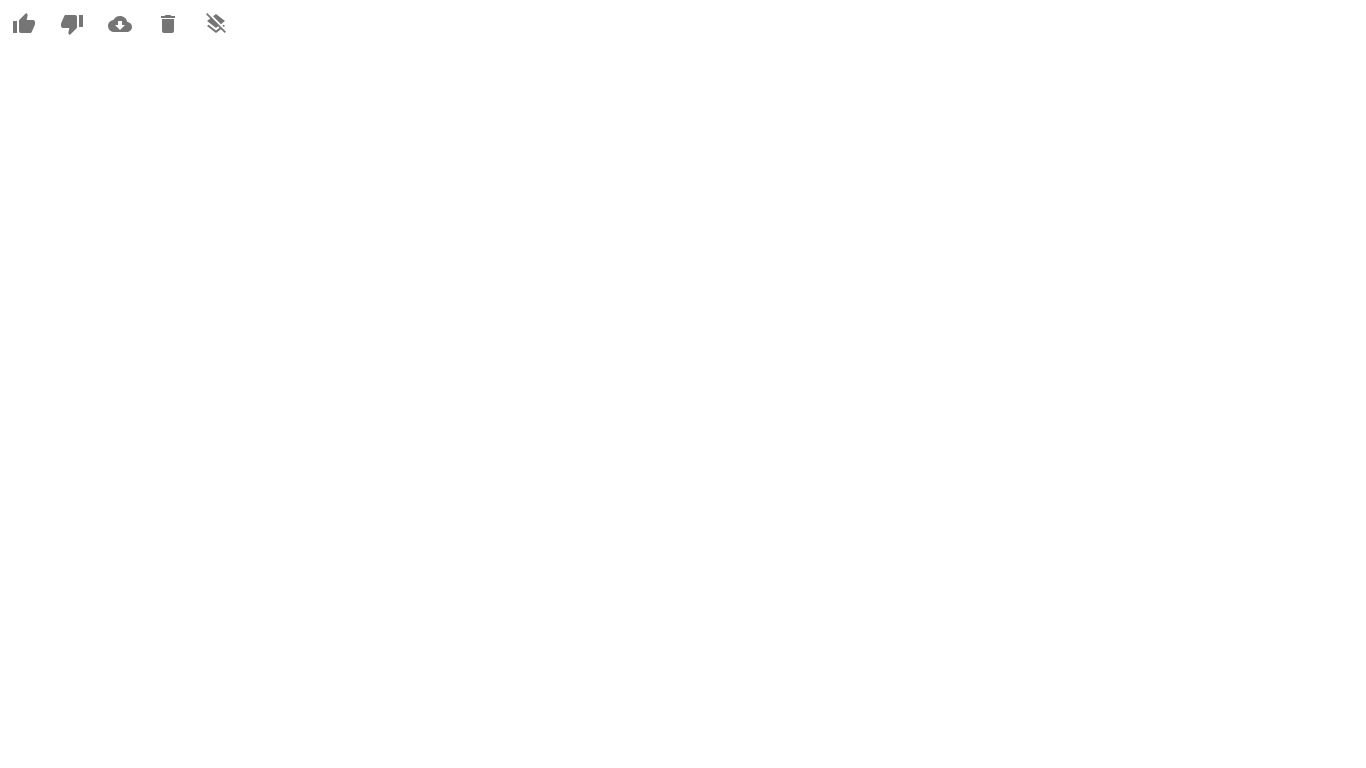
Test case: BulkOperation › approve › asks for confirmation counting only the runs that will be approved
Click the 1st button at (24, 24), box [0,0,48,48]
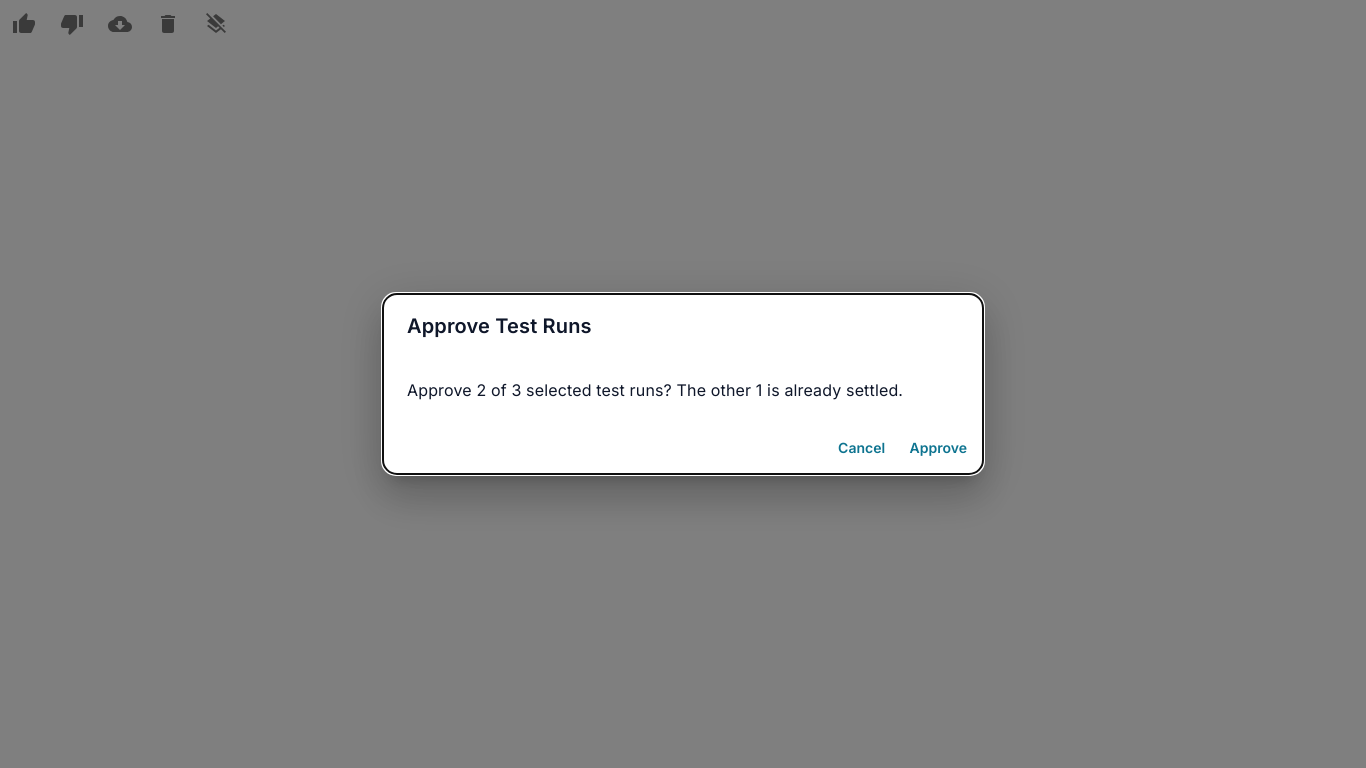
Result: the heading "Approve Test Runs" is shown at [407,314,592,338]
Result: the text "Approve 2 of 3 selected test runs? The other 1 is already settled." is shown at [407,378,959,402]
